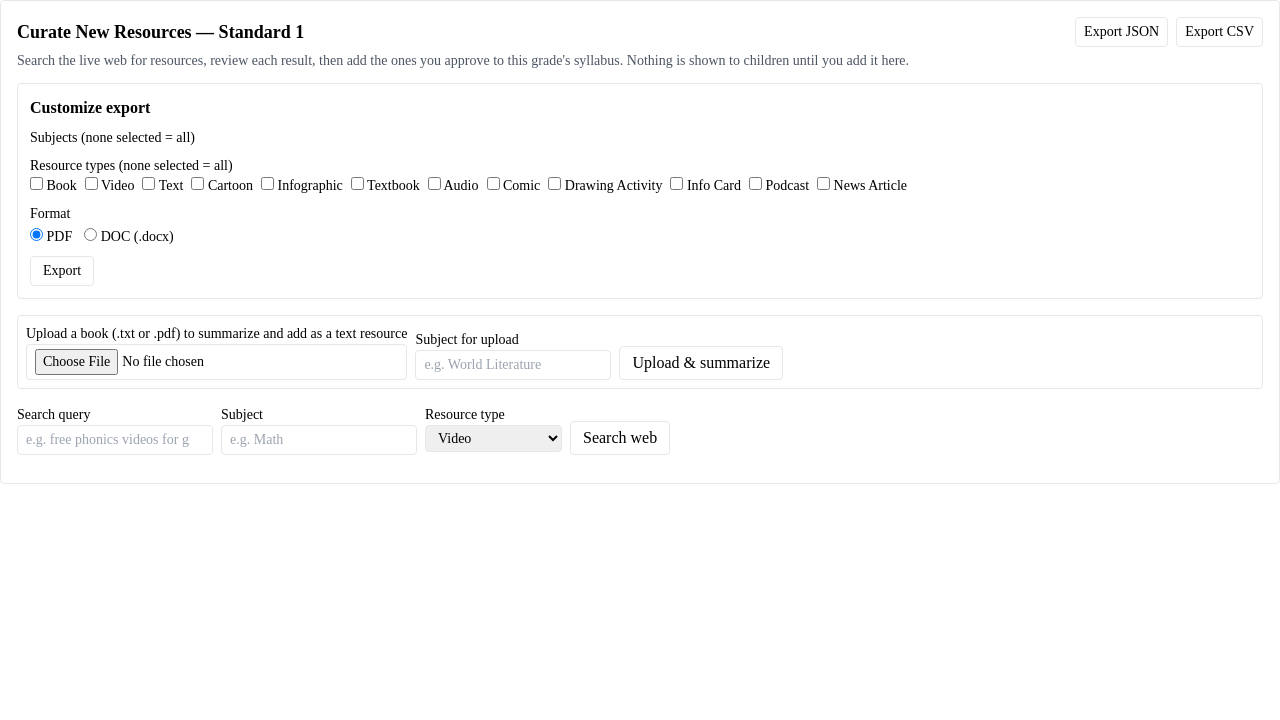
Test: ParentCuration › adds a reviewed resource to the syllabus via curate-resource
Type "math games" into the search field labelled "Search query". click: [115, 440]
box: [17,425,213,455]
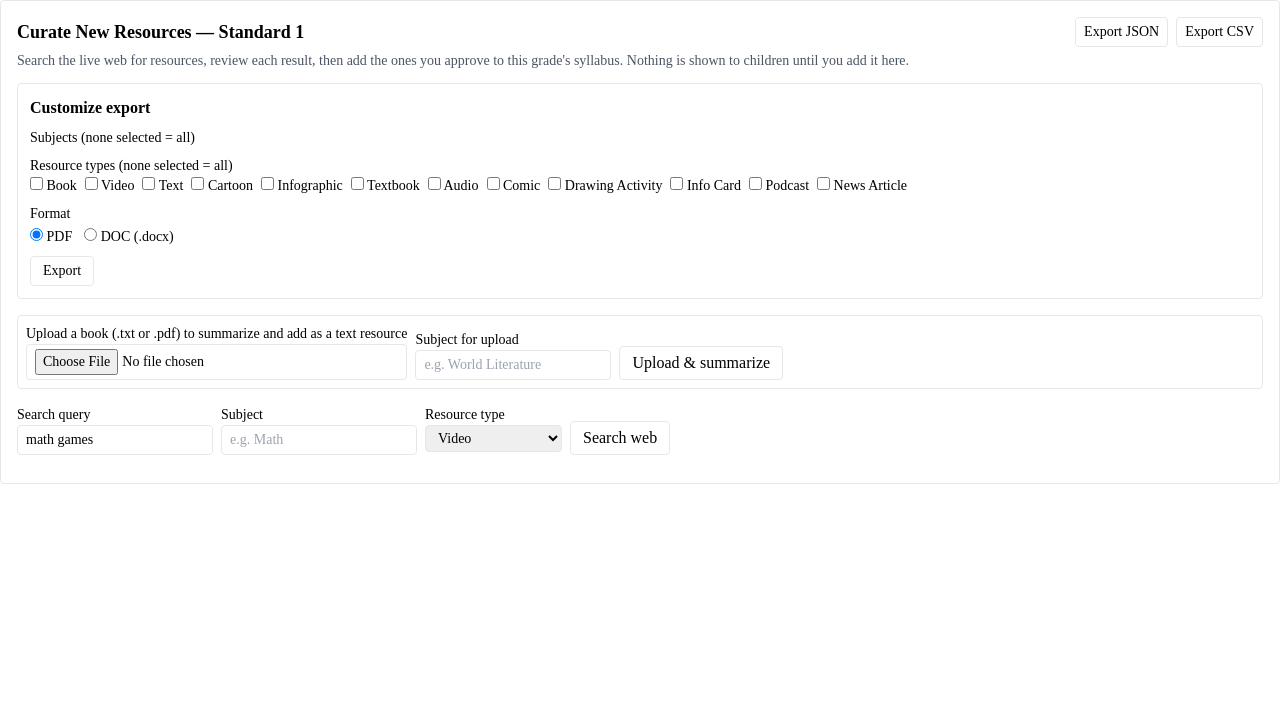
Click the button "Search web". click: [620, 438]
box: [570,421,670,455]
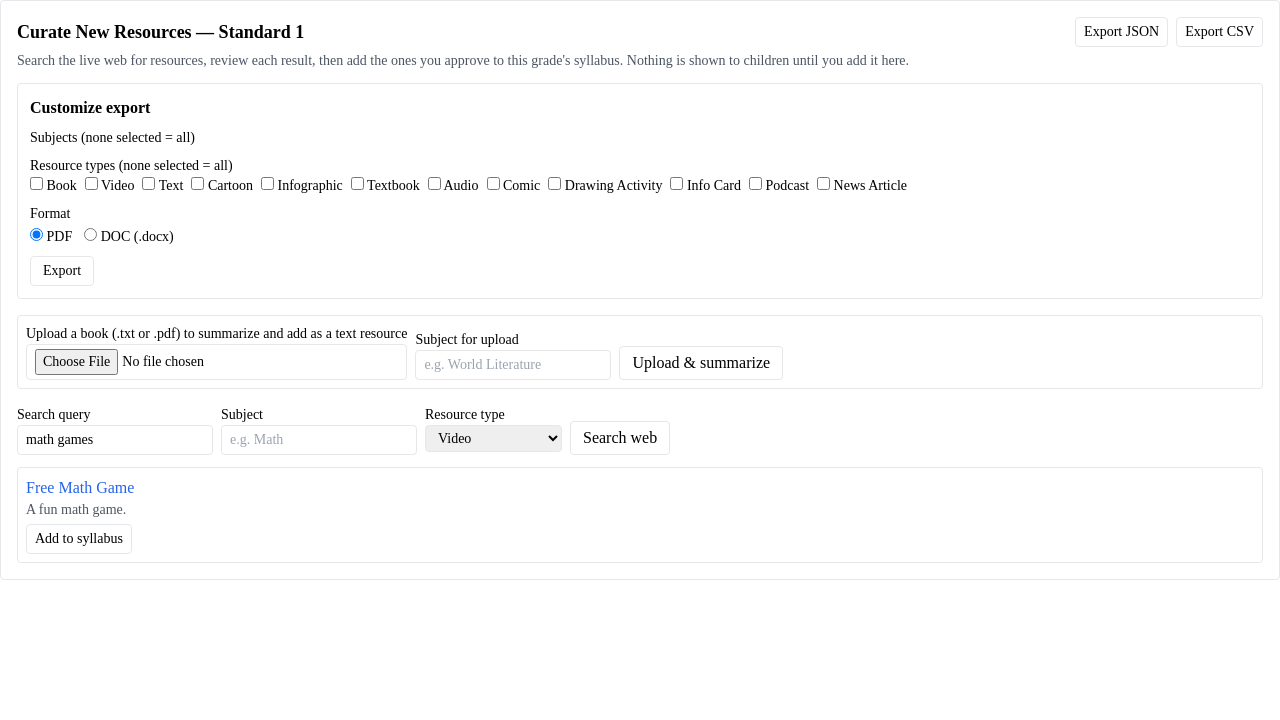
Expected: the link "Free Math Game" is shown, [26,479,134,496]
Type "Math" into the field labelled "Subject". click: [319, 440]
box: [221,425,417,455]
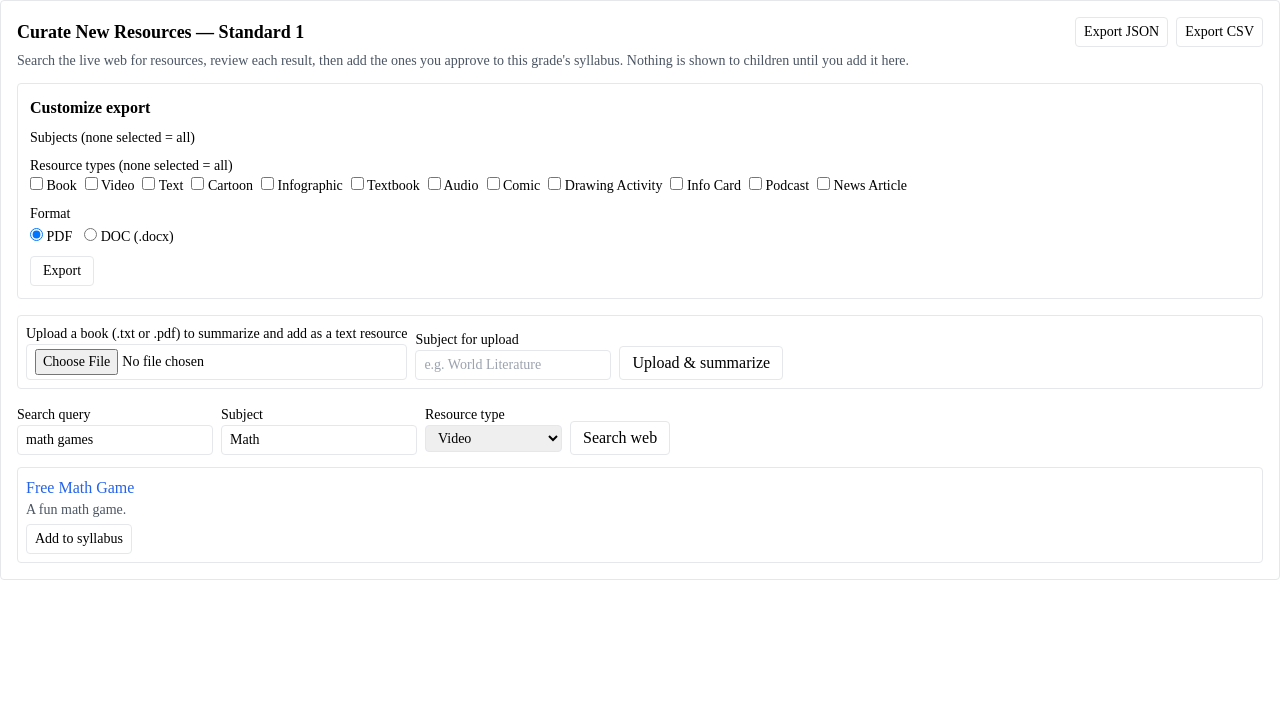
Click the button "Add to syllabus". click: [79, 539]
box: [26,524,132,554]
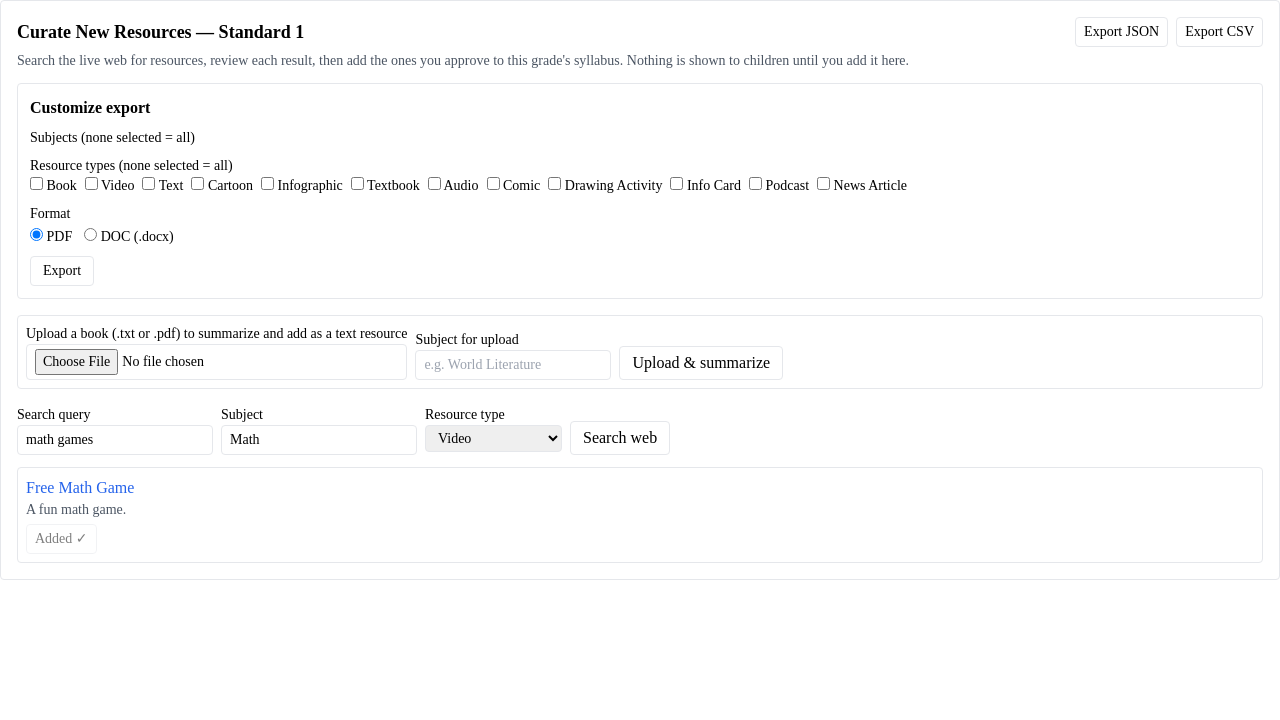
Expected: the button "Added ✓" is shown, [26,524,97,554]
